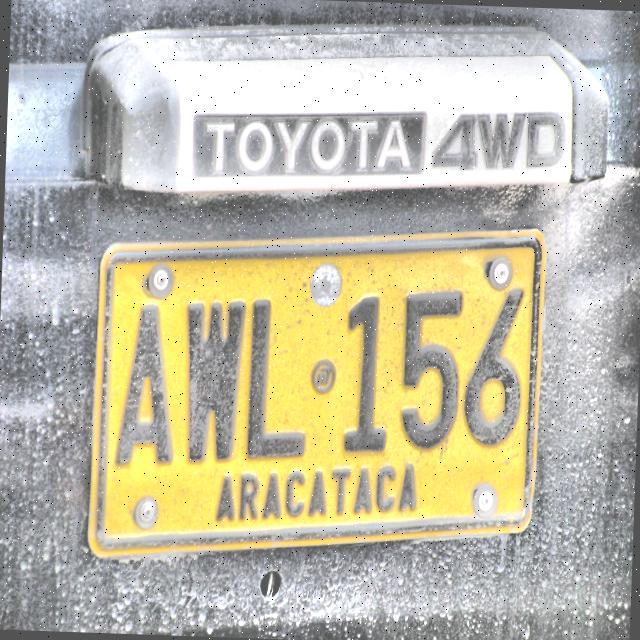plate: (86, 226, 546, 561)
